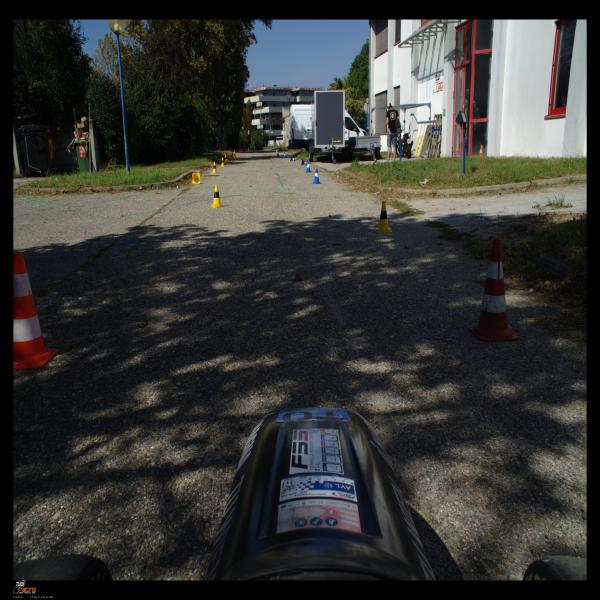blue_cone: (312, 168, 321, 184), (306, 161, 312, 172), (301, 159, 307, 165), (290, 156, 296, 161), (276, 150, 280, 157), (283, 152, 286, 158)
large_orange_cone: (13, 252, 58, 369), (468, 238, 519, 341)
orange_cone: (233, 150, 235, 154), (276, 149, 277, 155)
yellow_cone: (375, 201, 392, 233), (210, 185, 224, 208), (192, 172, 200, 184), (211, 162, 218, 174), (220, 157, 225, 167), (224, 154, 227, 162), (230, 155, 233, 159), (234, 153, 236, 158)
